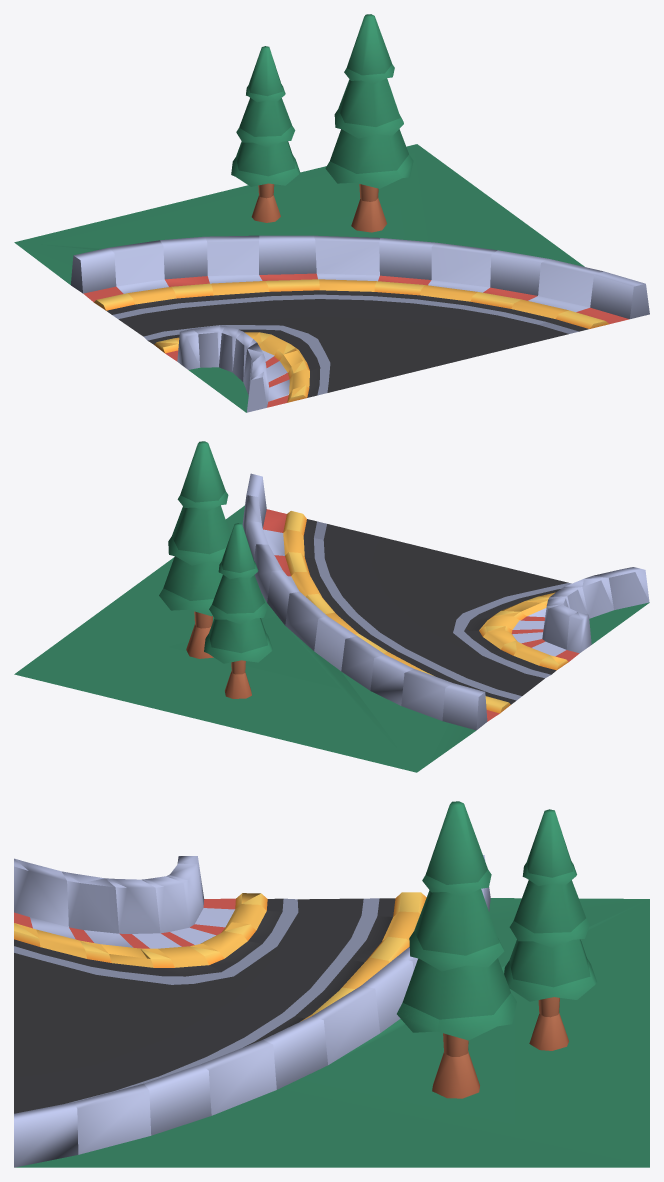
Rendered from track-wide-thin-corner.glb.
The picture shows the model from 3 angles, top to bottom: view 1: azimuth 30°, elevation 25°; view 2: azimuth 150°, elevation 25°; view 3: azimuth 270°, elevation 25°; orthographic projection. The views are drawn at different scales.
Parts seen in each view (by area): view 1: track-corner.010; view 2: track-corner.010; view 3: track-corner.010.
Boxes of the visible parts, x1,y1,x2,y2 form: track-corner.010: (14,14,649,412); track-corner.010: (14,441,649,772); track-corner.010: (14,801,649,1167).
Size of the model in its own units: 10.04 by 4.94 by 10.
4 materials, 4 textured.
